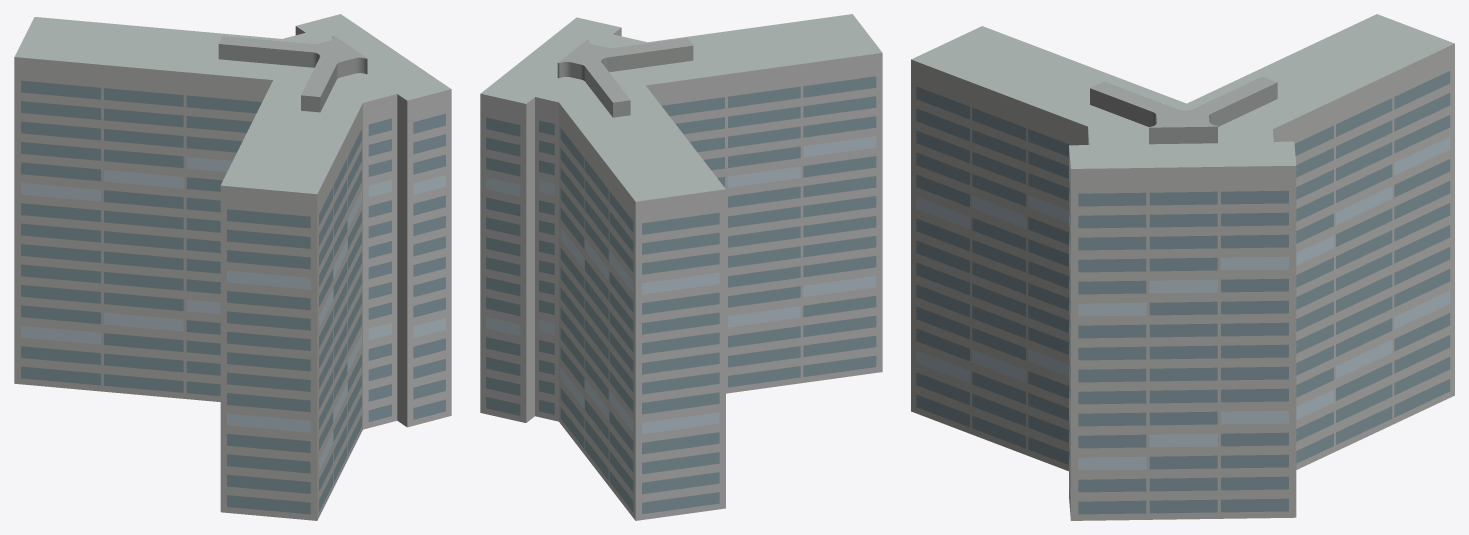
File: fallback-raemian-oksu-riverzen-114.glb
3 renders of one model, left to right at view 1: azimuth 30°, elevation 25°; view 2: azimuth 150°, elevation 25°; view 3: azimuth 270°, elevation 25°, orthographic. The views are drawn at different scales.
Visible parts, largest first — view 1: fallback-raemian-oksu-riverzen-114; view 2: fallback-raemian-oksu-riverzen-114; view 3: fallback-raemian-oksu-riverzen-114.
Boxes of the visible parts, bbox=[...] form: fallback-raemian-oksu-riverzen-114: bbox=[14, 14, 451, 520]; fallback-raemian-oksu-riverzen-114: bbox=[480, 14, 882, 520]; fallback-raemian-oksu-riverzen-114: bbox=[911, 14, 1454, 520].
Bounding box in the file's own units: 41.51 × 46 × 61.53.
